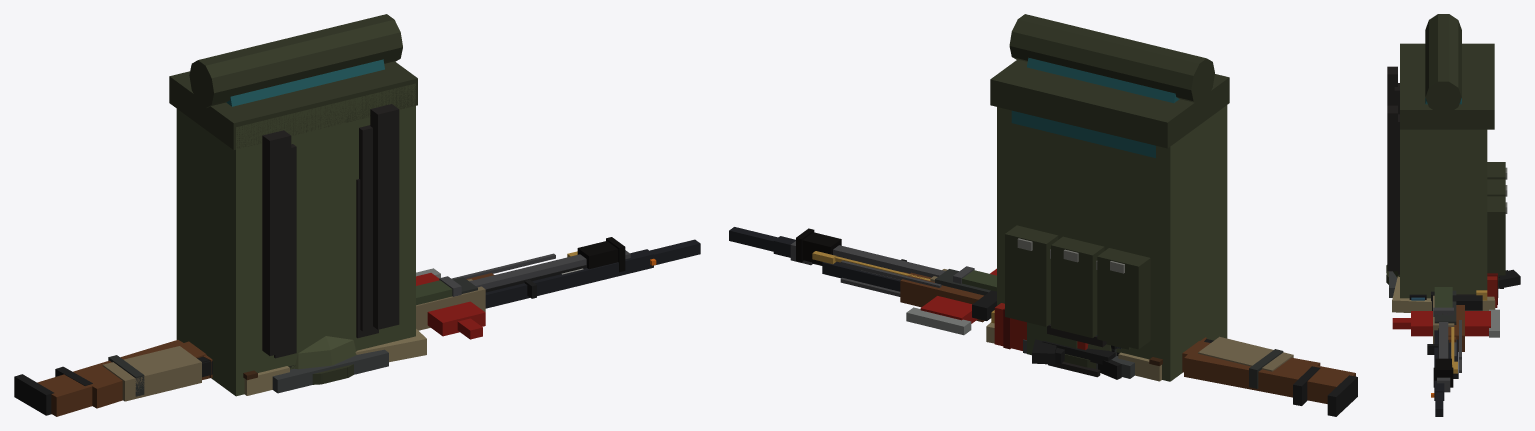
Rendered from items.glb.
3 renders of one model, left to right at view 1: azimuth 30°, elevation 25°; view 2: azimuth 150°, elevation 25°; view 3: azimuth 270°, elevation 25°, orthographic. The views are drawn at different scales.
Parts seen in each view (by area): view 1: ITEM_MilitaryRuck, ITEM_HikingPack, ITEM_AssaultRifle, ITEM_Rifle, ITEM_Shotgun, ITEM_Flamethrower, ITEM_Axe, ITEM_MilitaryHelmet, ITEM_Lmg, ITEM_CargoPants, ITEM_ArmorPlate, ITEM_Rucksack; view 2: ITEM_MilitaryRuck, ITEM_Rifle, ITEM_Flamethrower, ITEM_HikingPack, ITEM_Shotgun, ITEM_Lmg, ITEM_AssaultRifle, ITEM_Axe, ITEM_CargoPants, ITEM_MilitaryHelmet, ITEM_BikeHelmet; view 3: ITEM_MilitaryRuck, ITEM_Flamethrower, ITEM_Axe, ITEM_Lmg, ITEM_Shotgun, ITEM_CargoPants, ITEM_AssaultRifle, ITEM_HikingPack, ITEM_Rifle, ITEM_ArmorPlate.
Part boxes in pixels (x1,y1,x2,y2): ITEM_MilitaryRuck: [169, 14, 417, 396]; ITEM_HikingPack: [226, 59, 384, 348]; ITEM_AssaultRifle: [102, 268, 583, 401]; ITEM_Rifle: [14, 239, 700, 416]; ITEM_Shotgun: [55, 249, 656, 408]; ITEM_Flamethrower: [416, 237, 625, 305]; ITEM_Axe: [202, 268, 485, 379]; ITEM_MilitaryHelmet: [294, 336, 356, 384]; ITEM_Lmg: [108, 250, 630, 396]; ITEM_CargoPants: [243, 329, 426, 395]; ITEM_ArmorPlate: [272, 349, 388, 393]; ITEM_Rucksack: [274, 179, 378, 358]; ITEM_MilitaryRuck: [990, 14, 1229, 381]; ITEM_Rifle: [729, 227, 1357, 416]; ITEM_Flamethrower: [796, 228, 1116, 350]; ITEM_HikingPack: [1011, 57, 1179, 335]; ITEM_Shotgun: [773, 236, 1320, 405]; ITEM_Lmg: [790, 241, 1283, 388]; ITEM_AssaultRifle: [930, 269, 1293, 371]; ITEM_Axe: [906, 268, 996, 335]; ITEM_CargoPants: [986, 322, 1162, 381]; ITEM_MilitaryHelmet: [1048, 344, 1111, 377]; ITEM_BikeHelmet: [1042, 340, 1115, 364]; ITEM_MilitaryRuck: [1387, 14, 1507, 298]; ITEM_Flamethrower: [1433, 273, 1497, 387]; ITEM_Axe: [1392, 309, 1499, 337]; ITEM_Lmg: [1427, 275, 1498, 392]; ITEM_Shotgun: [1431, 305, 1464, 400]; ITEM_CargoPants: [1392, 276, 1495, 312]; ITEM_AssaultRifle: [1433, 269, 1520, 343]; ITEM_HikingPack: [1394, 83, 1461, 269]; ITEM_Rifle: [1409, 294, 1456, 416]; ITEM_ArmorPlate: [1389, 271, 1498, 297].
Size of the model in its own units: 1.53 by 0.7036 by 0.3693.
